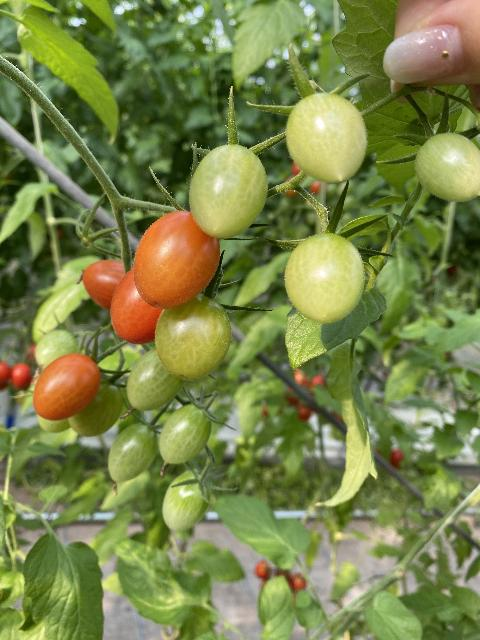l_fully_ripened: (111, 267, 164, 344)
l_green: (188, 144, 267, 239), (284, 232, 365, 322), (286, 93, 366, 183), (414, 132, 480, 202), (127, 348, 186, 411), (67, 379, 123, 437), (160, 403, 212, 464), (162, 469, 212, 530), (109, 422, 159, 482), (35, 329, 78, 369)
l_half_ripened: (133, 211, 221, 309), (155, 293, 231, 381), (33, 353, 102, 422), (82, 259, 126, 312)
